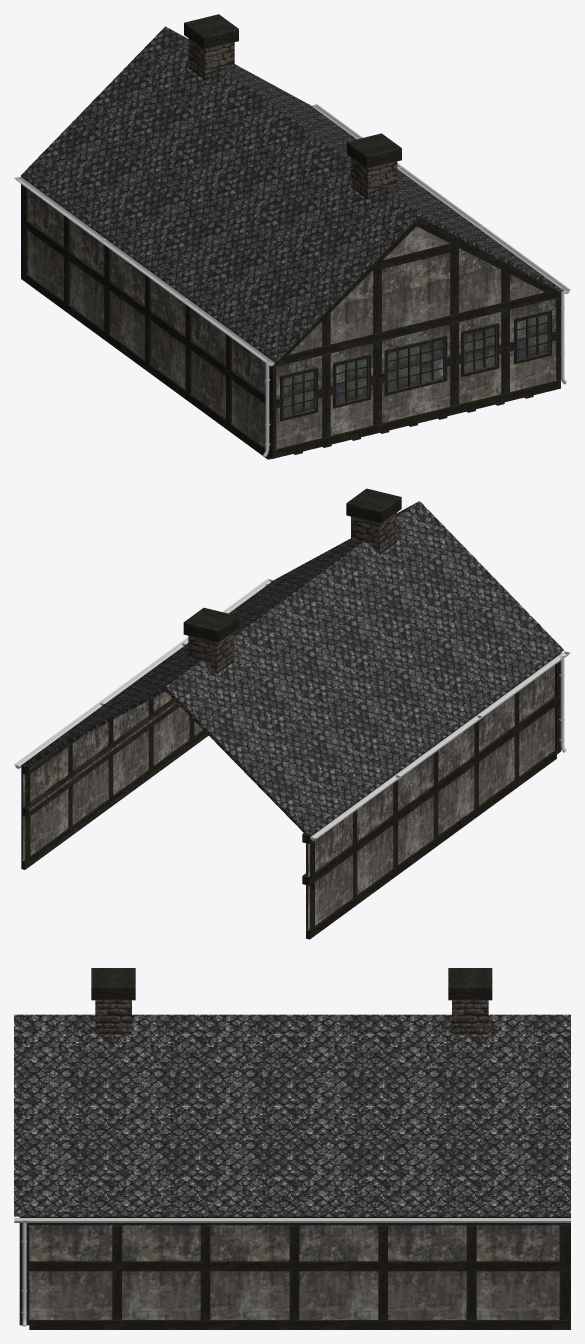
File: pubroof02.DAE
3 renders of one model, top to bottom at view 1: azimuth 30°, elevation 25°; view 2: azimuth 150°, elevation 25°; view 3: azimuth 270°, elevation 25°, orthographic. The views are drawn at different scales.
Visible parts, largest first — view 1: Object016, Object019, Object015, Object018, Object077, Box005; view 2: Object016, Object019, Object015, Object077, Box005; view 3: Object016, Object019, Object015, Object077, Box005.
Boxes of the visible parts, bbox=[...] form: Object016: bbox=[21, 26, 563, 361]; Object019: bbox=[28, 189, 556, 448]; Object015: bbox=[21, 14, 560, 459]; Object018: bbox=[283, 314, 547, 416]; Object077: bbox=[14, 104, 570, 424]; Box005: bbox=[188, 39, 397, 199]; Object016: bbox=[21, 501, 563, 835]; Object019: bbox=[23, 665, 554, 930]; Object015: bbox=[21, 488, 561, 939]; Object077: bbox=[14, 578, 570, 840]; Box005: bbox=[188, 513, 396, 673]; Object016: bbox=[14, 1014, 570, 1216]; Object019: bbox=[29, 1225, 559, 1319]; Object015: bbox=[19, 968, 570, 1329]; Object077: bbox=[14, 1218, 570, 1290]; Box005: bbox=[95, 1000, 488, 1037].
Bounding box in the file's own units: 13.02 × 10.3 × 18.88.
